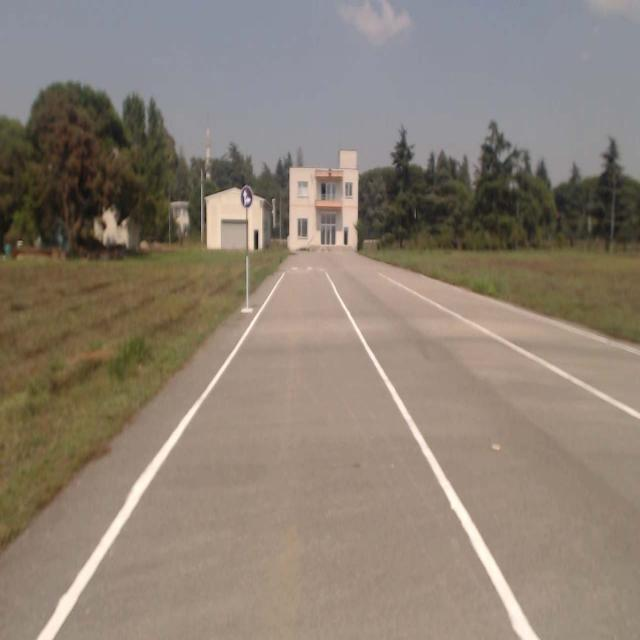ilerisag: (241, 187, 252, 206)
